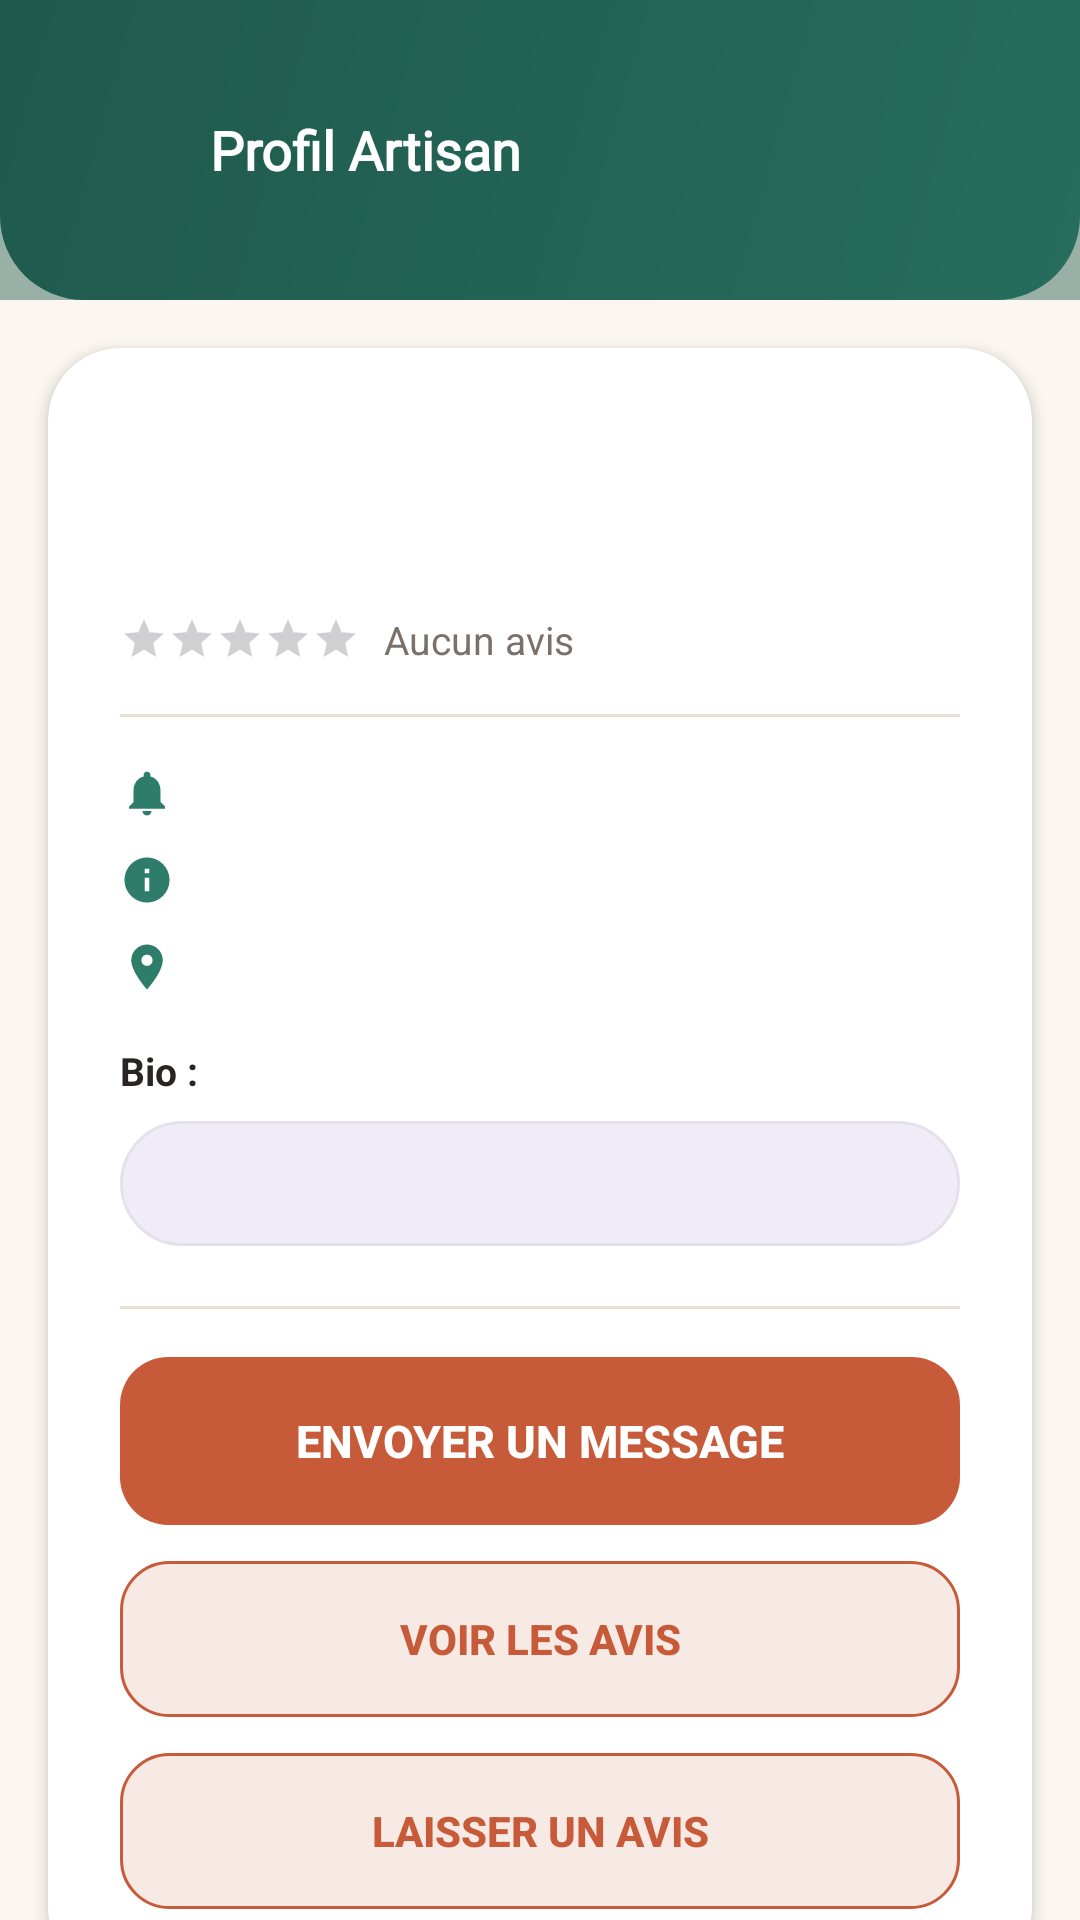

Where icons sit on this 1080px×1920px app screen, as {"left": x1, "top": y1, "right": x2, "bottom": y2}:
info: {"left": 124, "top": 857, "right": 170, "bottom": 903}
location on: {"left": 131, "top": 944, "right": 163, "bottom": 989}
notifications: {"left": 129, "top": 771, "right": 165, "bottom": 816}
